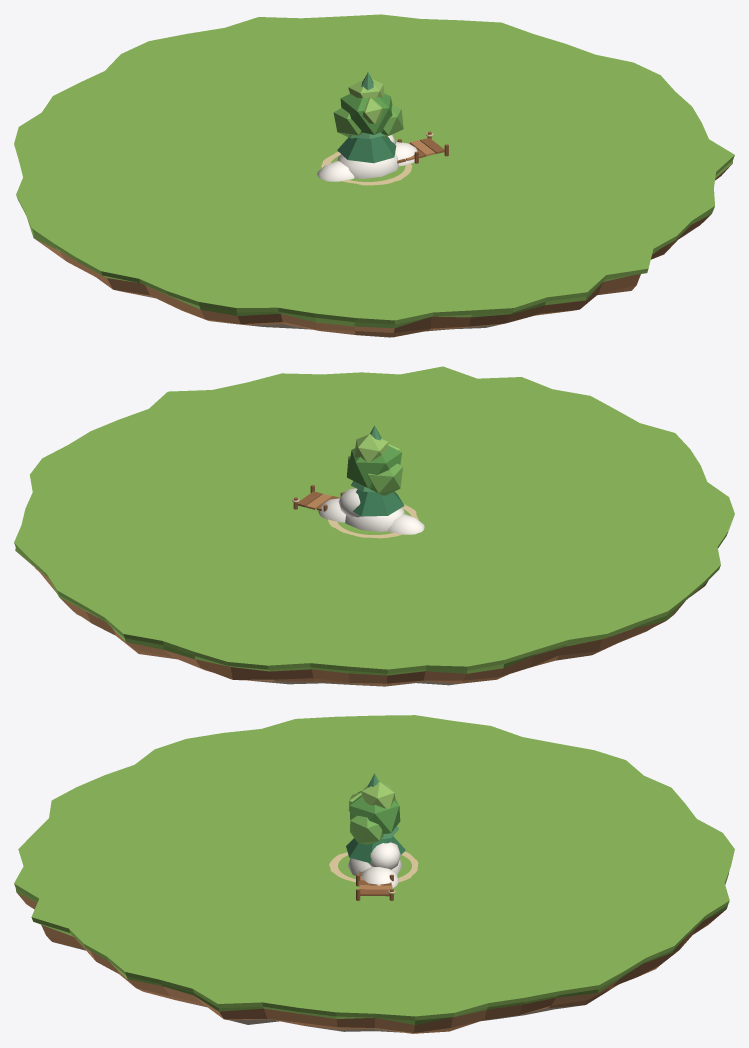
The model's file is world.glb.
The picture shows the model from 3 angles, top to bottom: view 1: azimuth 30°, elevation 25°; view 2: azimuth 150°, elevation 25°; view 3: azimuth 270°, elevation 25°; orthographic projection.
Parts seen in each view (by area): view 1: IslandTerrain, Tier0, Leaves0, Puff0, Puff2; view 2: IslandTerrain, Leaves0, Tier0, Puff0, Leaves2, Leaves3, Puff2; view 3: IslandTerrain, Leaves0, Leaves1, Puff3, Leaves3, Tier0, Puff1, PondShore.
Part boxes in pixels (bbox=[...]): IslandTerrain: bbox=[14, 14, 734, 337]; Tier0: bbox=[337, 136, 396, 163]; Leaves0: bbox=[340, 93, 392, 134]; Puff0: bbox=[337, 152, 398, 178]; Puff2: bbox=[317, 160, 354, 181]; IslandTerrain: bbox=[14, 366, 734, 686]; Leaves0: bbox=[347, 445, 401, 488]; Tier0: bbox=[353, 489, 404, 516]; Puff0: bbox=[345, 508, 404, 532]; Leaves2: bbox=[367, 463, 402, 495]; Leaves3: bbox=[354, 434, 388, 461]; Puff2: bbox=[387, 513, 424, 534]; IslandTerrain: bbox=[14, 715, 734, 1033]; Leaves0: bbox=[349, 791, 400, 833]; Leaves1: bbox=[350, 815, 383, 844]; Puff3: bbox=[368, 842, 400, 869]; Leaves3: bbox=[361, 782, 395, 808]; Tier0: bbox=[346, 836, 405, 863]; Puff1: bbox=[361, 866, 398, 888]; PondShore: bbox=[329, 851, 418, 882].
Bounding box in the file's own units: 18.65 × 5.39 × 18.86.
